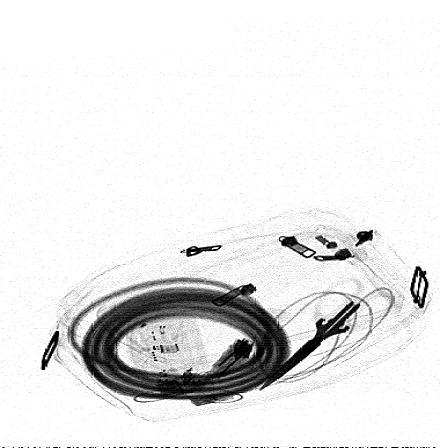Scissors: (250, 276, 405, 395)
